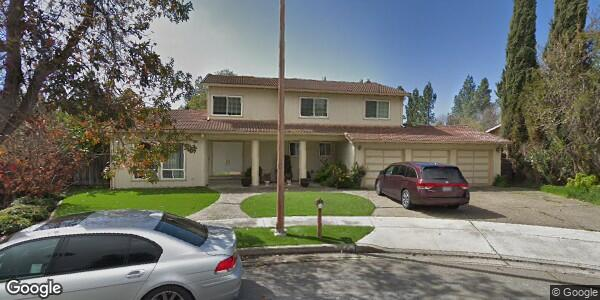Steel_Pole: (267, 1, 294, 240)
